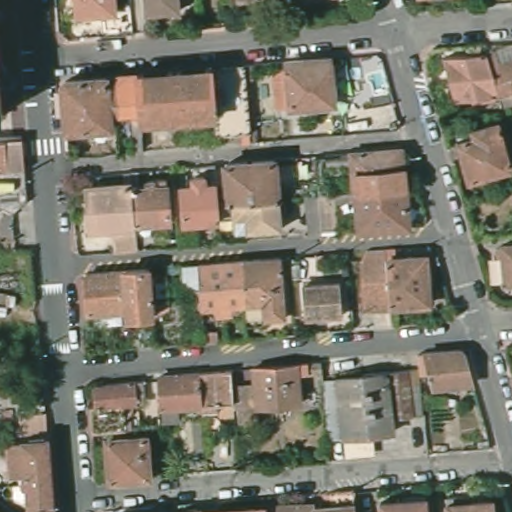pool: (366, 69, 390, 96)
